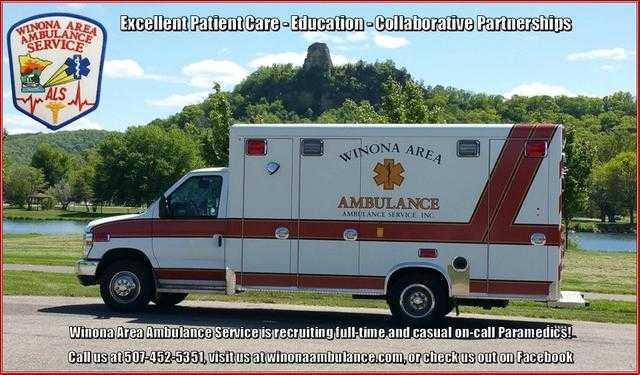Ambulance: (62, 114, 585, 329)
